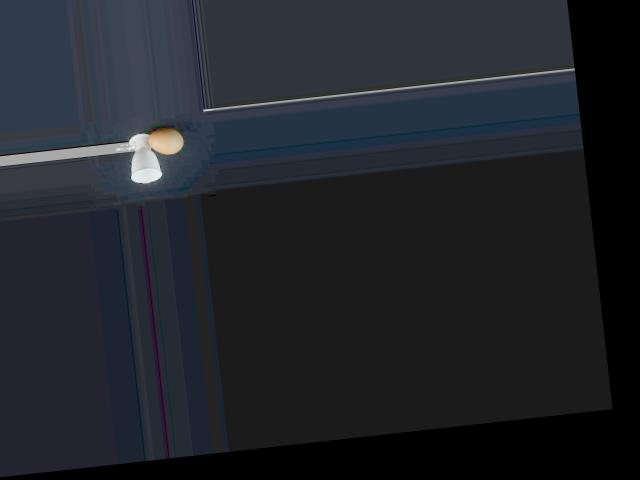egg: (146, 127, 183, 156)
